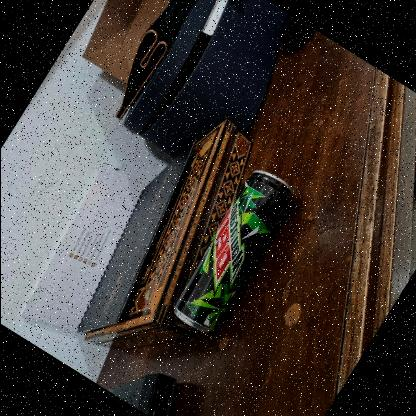Can: (173, 171, 293, 333)
